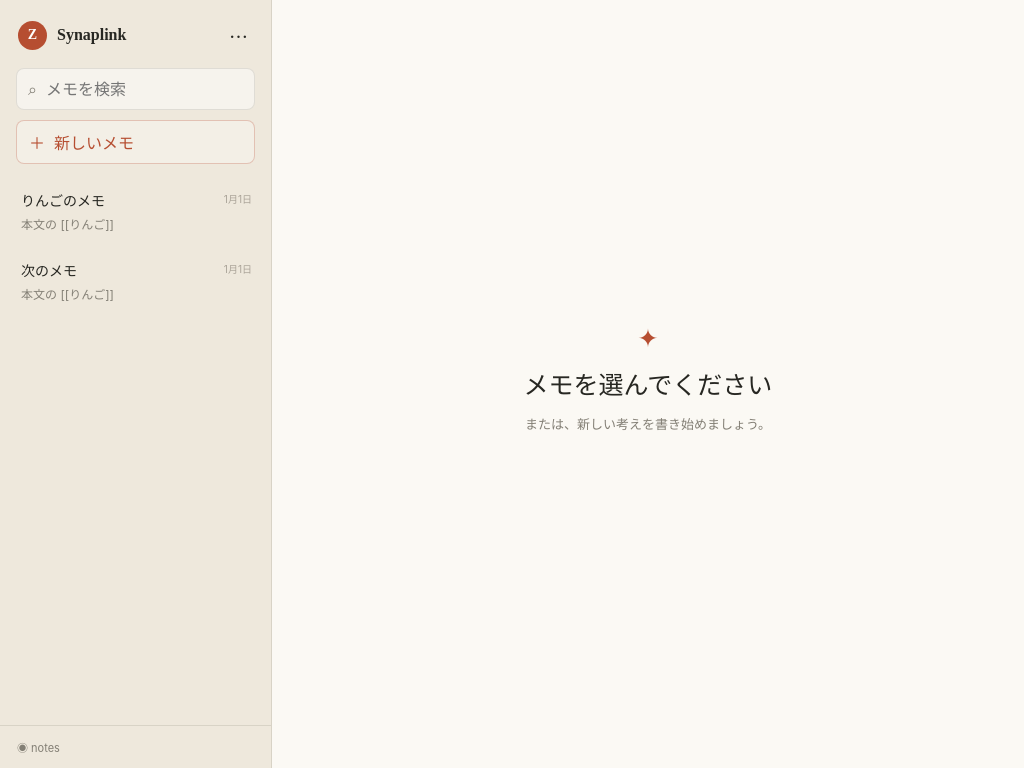
App › 別のメモを読み込んだ直後に完了した古い外部読込を無視する
What coordinates should you click on to do the following:
click the button "りんごのメモ"
I would click on:
 (136, 211)
Its box is [9,176,262,246].
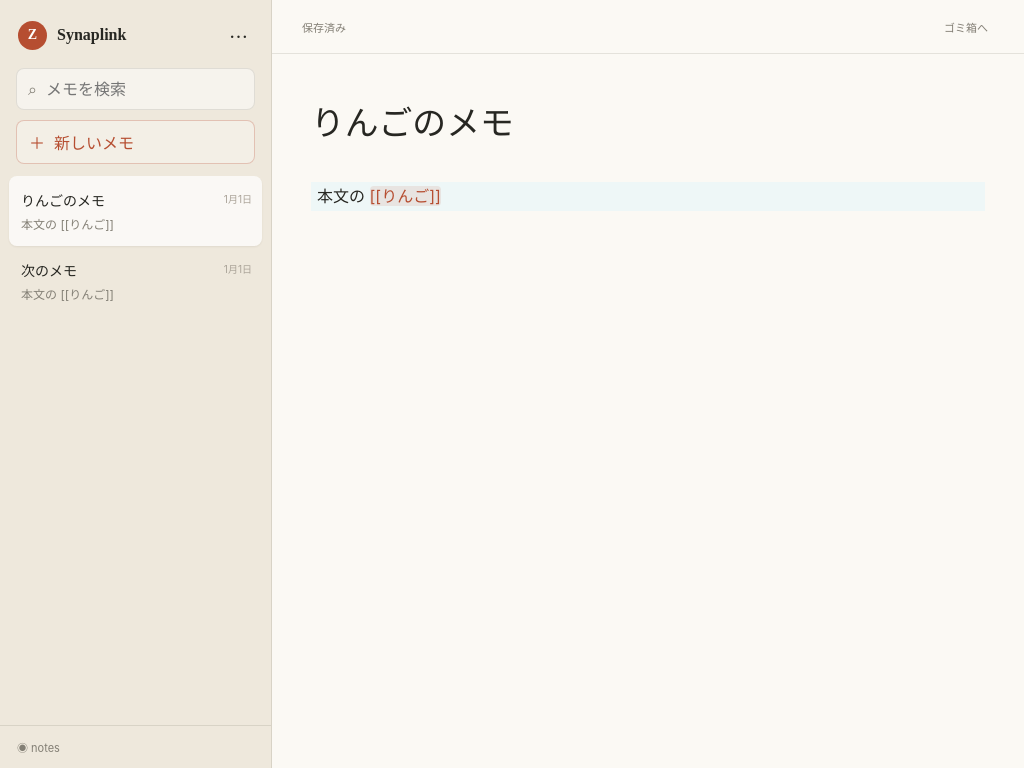
Now the field named "タイトル" is shown, box [307,102,989,162]
What coordinates should you click on to do the following:
click the button "次のメモ"
I would click on:
 (136, 281)
Its box is [9,246,262,316].
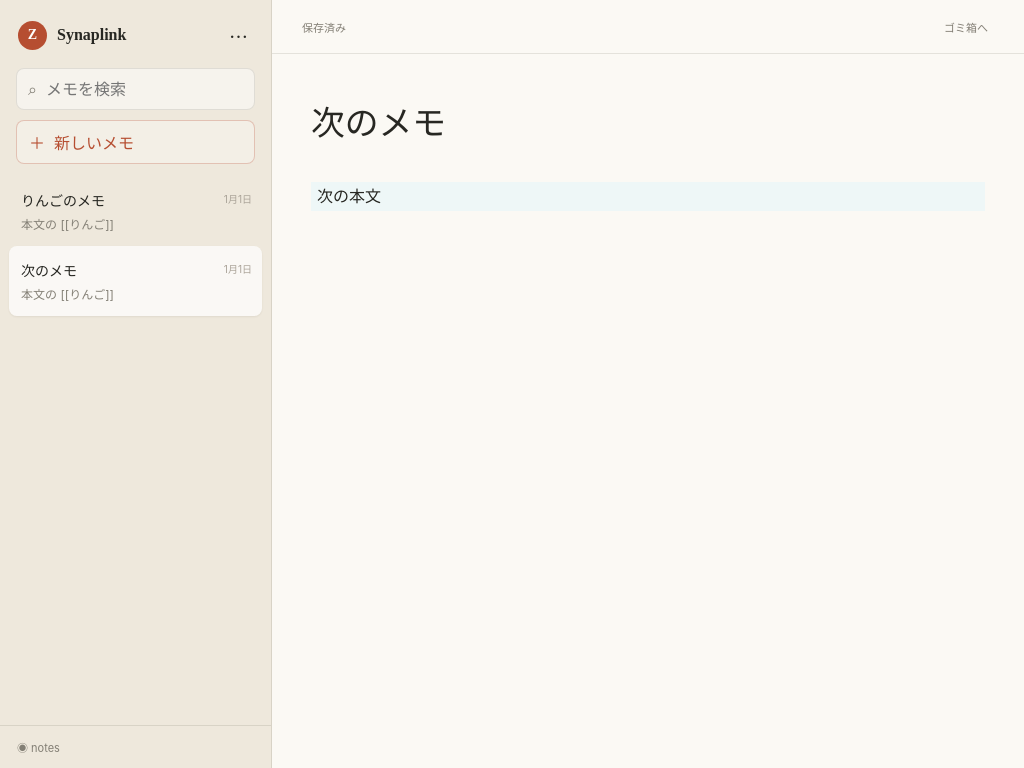
Now the field named "タイトル" holds "次のメモ", box [307,102,989,162]
Now the text box labelled "次の本文" is shown, box [311,182,985,211]
